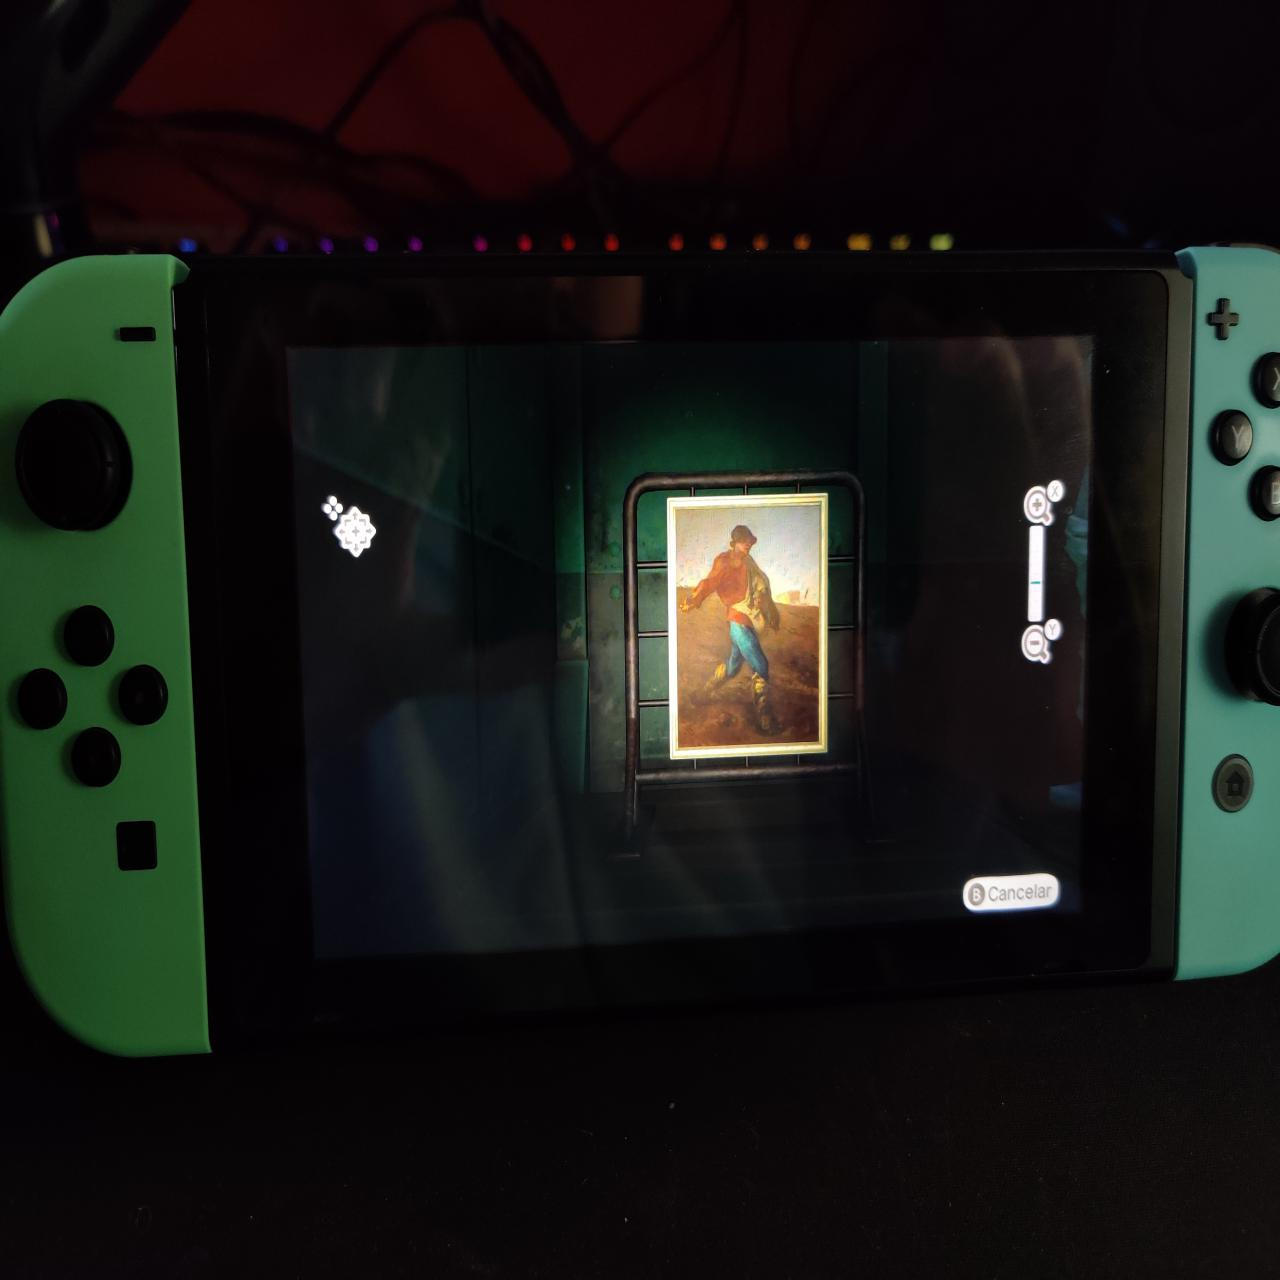Slower: (679, 513, 821, 743)
